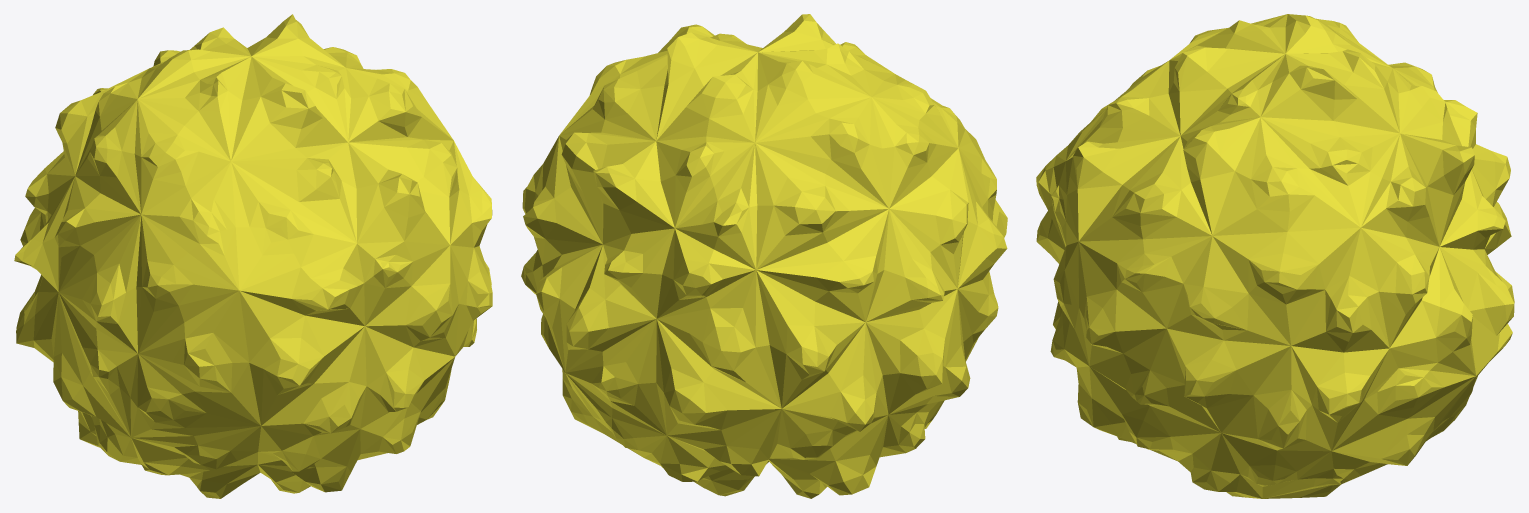
File: wbc.glb
The picture shows the model from 3 angles, left to right: view 1: azimuth 30°, elevation 25°; view 2: azimuth 150°, elevation 25°; view 3: azimuth 270°, elevation 25°; orthographic projection.
Visible parts, largest first — view 1: White_Blood_Cell; view 2: White_Blood_Cell; view 3: White_Blood_Cell.
Part boxes in pixels (x1,y1,x2,y2): White_Blood_Cell: [14, 14, 492, 498]; White_Blood_Cell: [521, 14, 1007, 498]; White_Blood_Cell: [1036, 14, 1514, 498].
Size of the model in its own units: 19.99 by 19.72 by 19.71.
1 material, 1 textured.
